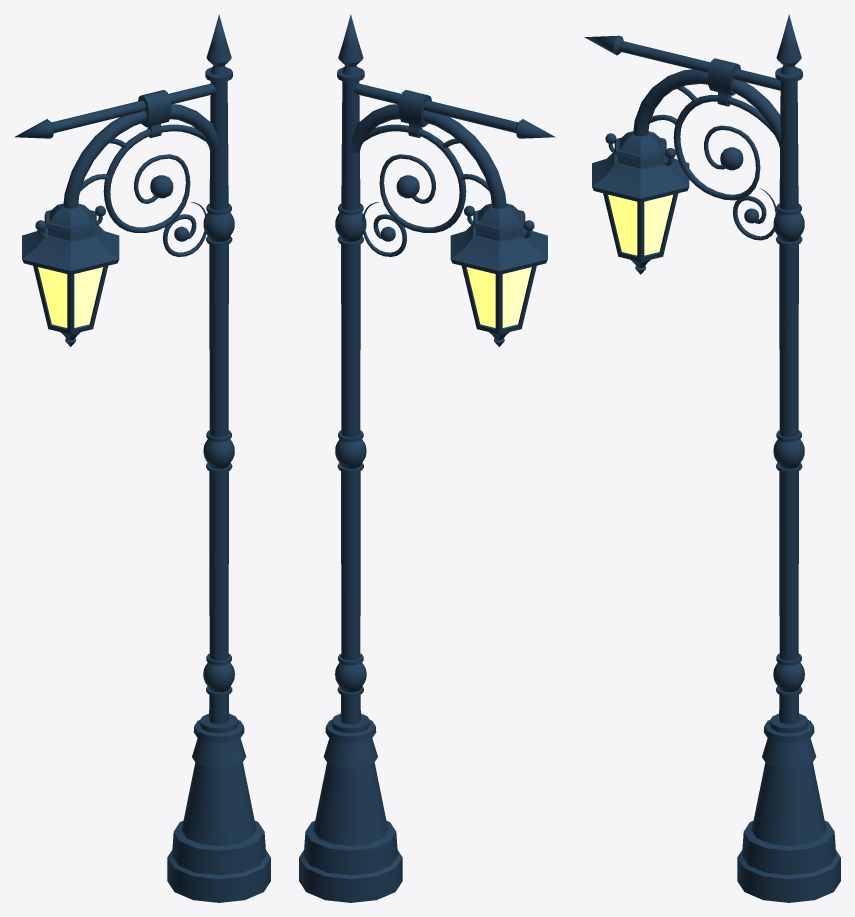
Rendered from Laterne.V2.fbx.
The picture shows the model from 3 angles, left to right: view 1: azimuth 30°, elevation 25°; view 2: azimuth 150°, elevation 25°; view 3: azimuth 330°, elevation 25°; orthographic projection.
Visible parts, largest first — view 1: V2Laterne, V2Laterne.013, V2Laterne.005, V2Laterne.001, V2Laterne.002, V2Laterne.006; view 2: V2Laterne, V2Laterne.013, V2Laterne.005, V2Laterne.001, V2Laterne.002, V2Laterne.006; view 3: V2Laterne, V2Laterne.013, V2Laterne.005, V2Laterne.001, V2Laterne.002, V2Laterne.006.
Part boxes in pixels (left/top/right/bottom): V2Laterne: left=167, top=14, right=270, bottom=902; V2Laterne.013: left=22, top=203, right=119, bottom=346; V2Laterne.005: left=14, top=83, right=216, bottom=138; V2Laterne.001: left=63, top=104, right=218, bottom=208; V2Laterne.002: left=103, top=124, right=206, bottom=232; V2Laterne.006: left=163, top=202, right=207, bottom=256; V2Laterne: left=299, top=14, right=402, bottom=902; V2Laterne.013: left=450, top=203, right=547, bottom=346; V2Laterne.005: left=353, top=83, right=555, bottom=138; V2Laterne.001: left=351, top=104, right=506, bottom=208; V2Laterne.002: left=363, top=124, right=466, bottom=232; V2Laterne.006: left=362, top=202, right=406, bottom=256; V2Laterne: left=737, top=14, right=840, bottom=902; V2Laterne.013: left=592, top=131, right=689, bottom=274; V2Laterne.005: left=584, top=35, right=780, bottom=106; V2Laterne.001: left=633, top=69, right=781, bottom=149; V2Laterne.002: left=673, top=94, right=773, bottom=200; V2Laterne.006: left=733, top=188, right=777, bottom=240.
Size of the model in its own units: 93.49 by 310 by 33.58.
